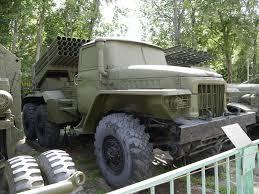MIL_SAM_TEL: (21, 31, 231, 185)
